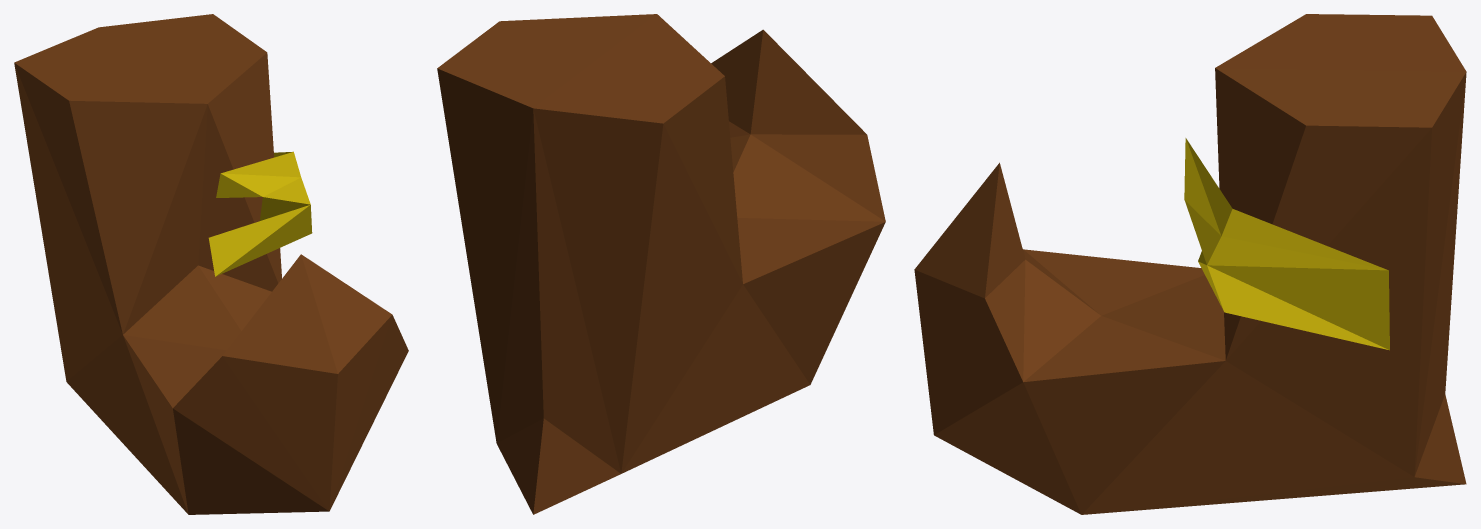
Rendered from boots.dae.
3 views of the same model, side by side, from view 1: azimuth 30°, elevation 25°; view 2: azimuth 150°, elevation 25°; view 3: azimuth 270°, elevation 25° (orthographic). The views are drawn at different scales.
Visible parts, largest first — view 1: Cube, Cube_001; view 2: Cube; view 3: Cube, Cube_001.
Part boxes in pixels (x1=…): Cube: x1=14, y1=14, x2=408, y2=514; Cube_001: x1=208, y1=151, x2=312, y2=276; Cube: x1=437, y1=14, x2=885, y2=514; Cube: x1=914, y1=14, x2=1466, y2=514; Cube_001: x1=1184, y1=138, x2=1389, y2=350.
Bounding box in the file's own units: 1.31 × 2.29 × 1.94.
